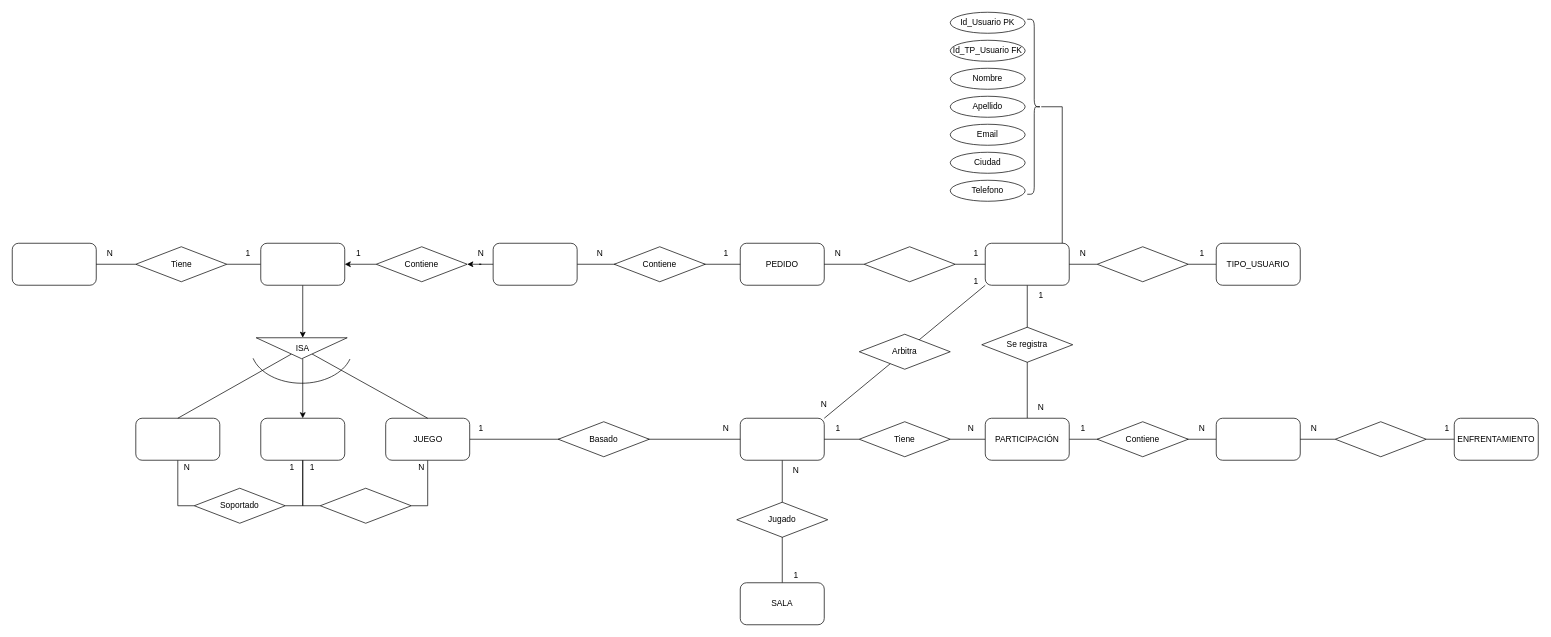
This 1551x637 diagram has some shape labels left out. Each missing label, with the box of its shape:
ACCESORIO: (135, 418, 220, 460)
ARTICULO: (260, 243, 345, 285)
ARTICULO_PEDIDO: (492, 243, 577, 285)
CONSOLA: (260, 418, 345, 460)
Es: (1097, 246, 1188, 282)
Hace: (863, 246, 955, 282)
Jugado en: (320, 488, 411, 523)
Participan: (1335, 421, 1426, 457)
RIVAL: (1216, 418, 1300, 460)
STOCK: (12, 243, 96, 285)
TORNEO: (740, 418, 824, 460)
USUARIO: (985, 243, 1069, 285)
